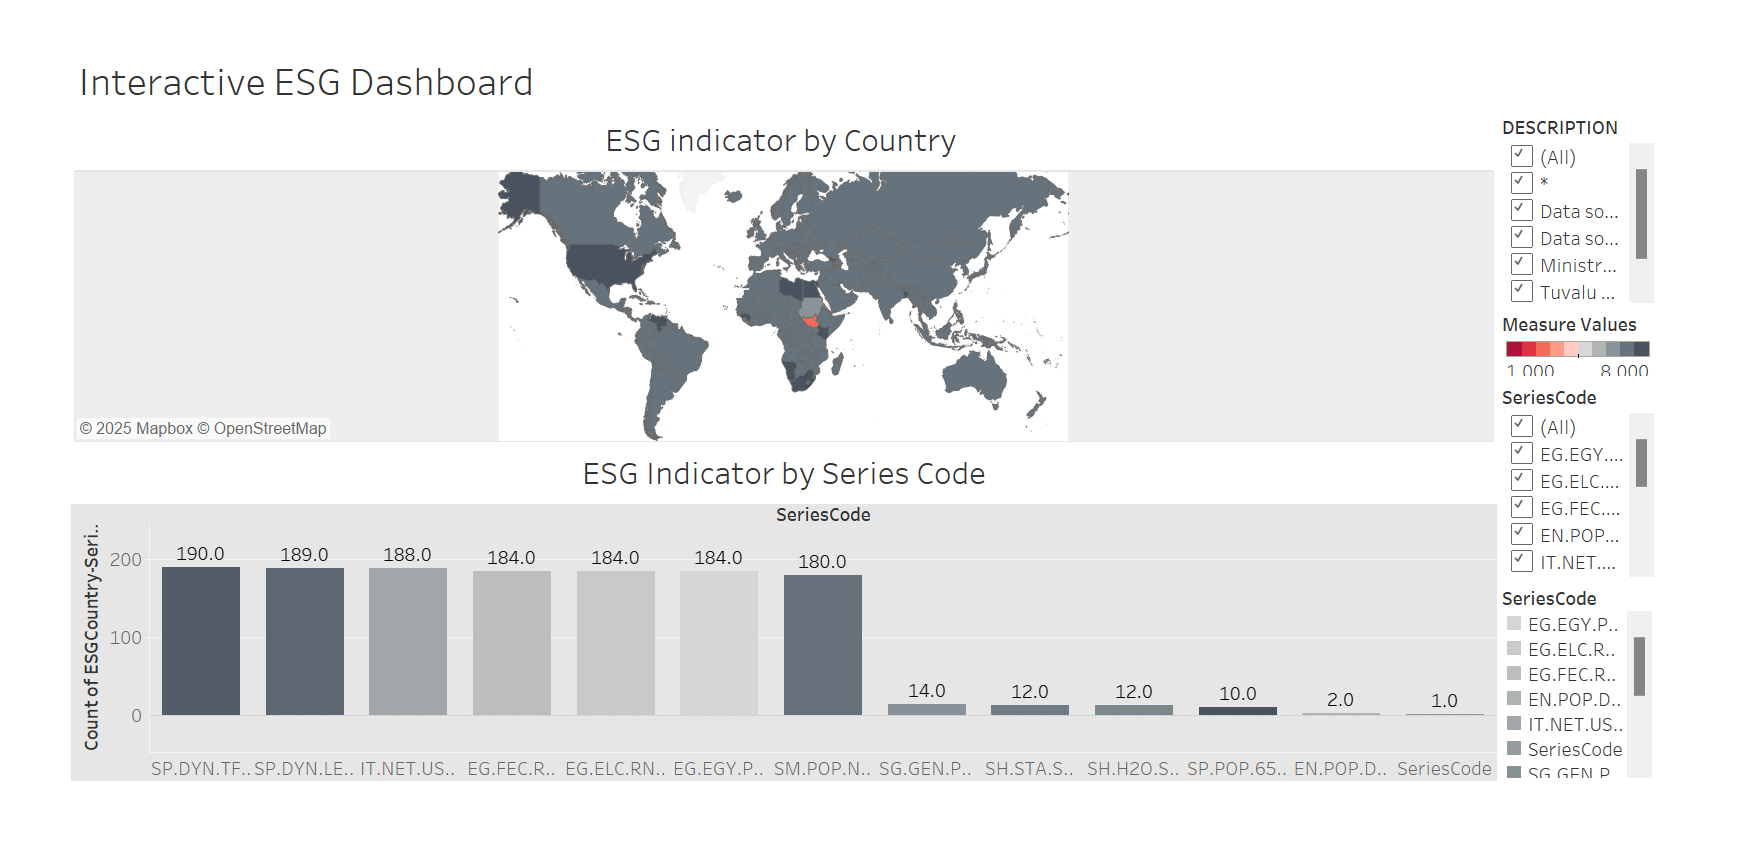

The dashboard page shown, as its layout file describes it:
{"tool":"tableau","page":{"name":"Interactive ESG Dashboard","canvas":[1604,746],"ordinal":0},"visuals":[{"type":"title","box":[8,8,1588,58]},{"type":"worksheet","title":"ESG indicator by Country ","mark":"Multipolygon","box":[8,66,1428,336]},{"type":"filter","title":"ESG indicator by Country ","param":"[federated.1lvmqc11he3kal1bgk7l51va0ued].[attr:F3:nk]","box":[1436,66,160,197]},{"type":"legend","title":"ESG indicator by Country ","param":"[federated.1lvmqc11he3kal1bgk7l51va0ued].[Multiple Values]","box":[1436,263,160,73]},{"type":"filter","title":"ESG Indicator by Series Code","param":"[federated.1lvmqc11he3kal1bgk7l51va0ued].[none:F2:nk]","box":[1436,336,160,201]},{"type":"worksheet","title":"ESG Indicator by Series Code","mark":"Automatic","rows":["ESGCountry-Series.csv_8DFD513F4E804C5BB6861007423E2069"],"cols":["F2"],"box":[8,402,1428,336]},{"type":"legend","title":"ESG Indicator by Series Code","param":"[federated.1lvmqc11he3kal1bgk7l51va0ued].[none:F2:nk]","box":[1436,537,160,201]}]}

Visuals, with their boxes on the page's 1604x746 design canvas (x1, y1, x2, y2). These are canvas units, not pixel positions in the 1742x853 screenshot, which may show the page scaled, cropped or inside an application window:
title: bbox=[8, 8, 1596, 66]
"ESG indicator by Country " worksheet (Multipolygon marks): bbox=[8, 66, 1436, 402]
"ESG indicator by Country " filter: bbox=[1436, 66, 1596, 263]
"ESG indicator by Country " legend: bbox=[1436, 263, 1596, 336]
"ESG Indicator by Series Code" filter: bbox=[1436, 336, 1596, 537]
"ESG Indicator by Series Code" worksheet: bbox=[8, 402, 1436, 738]
"ESG Indicator by Series Code" legend: bbox=[1436, 537, 1596, 738]
